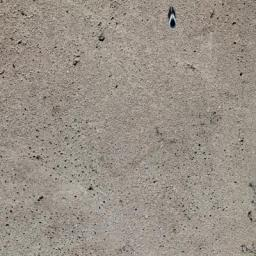FOD: (163, 1, 182, 35)
